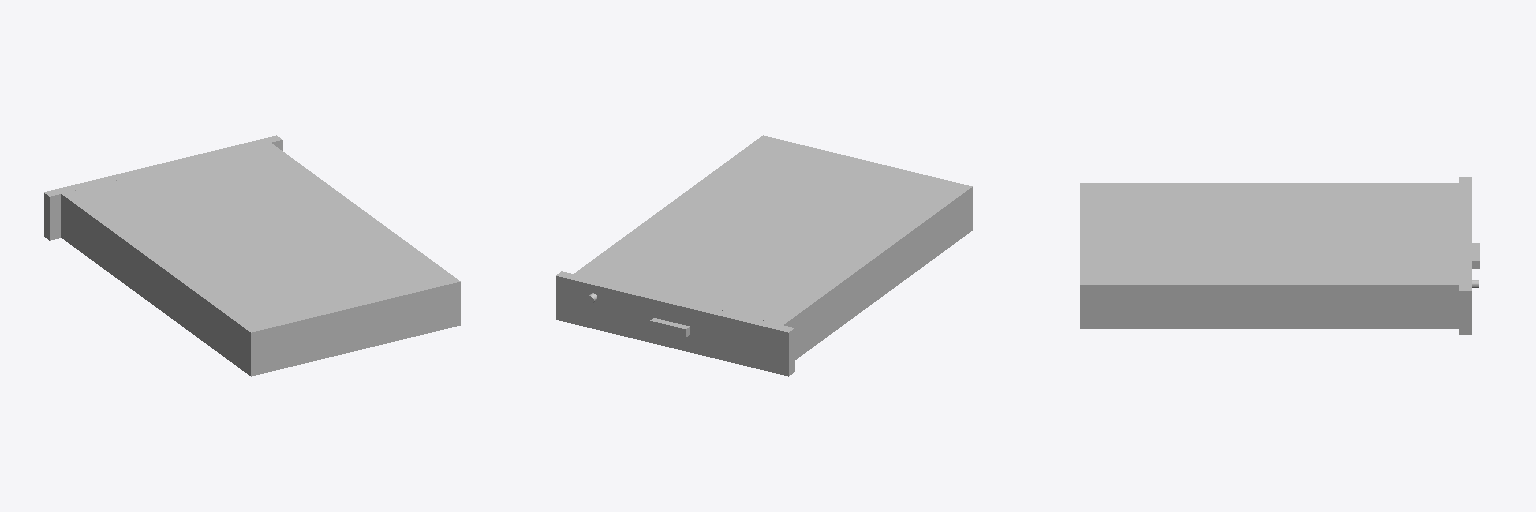
Rendered from r740_hex_simple.obj.
3 views of the same model, side by side, from view 1: azimuth 30°, elevation 25°; view 2: azimuth 150°, elevation 25°; view 3: azimuth 270°, elevation 25° (orthographic).
Parts seen in each view (by area): view 1: Chassis_Cube, Front_Panel_Cube.002; view 2: Chassis_Cube, Front_Panel_Cube.002; view 3: Chassis_Cube, Front_Panel_Cube.002.
Boxes of the visible parts, x1,y1,x2,y2 form: Chassis_Cube: [61, 143, 460, 376]; Front_Panel_Cube.002: [44, 135, 282, 240]; Chassis_Cube: [574, 135, 972, 359]; Front_Panel_Cube.002: [556, 271, 794, 376]; Chassis_Cube: [1080, 183, 1458, 328]; Front_Panel_Cube.002: [1459, 177, 1471, 334].
Size of the model in its own units: 0.6426 by 0.1157 by 0.9534.